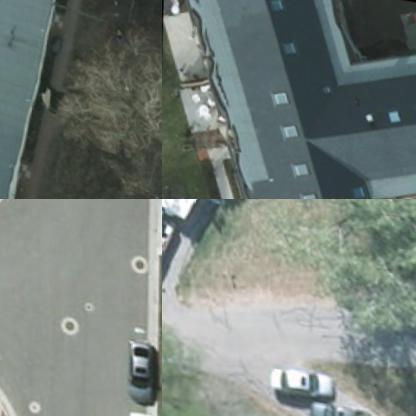car: (263, 362, 332, 402), (119, 332, 156, 404), (304, 395, 369, 415)
pickup: (162, 204, 178, 309)
